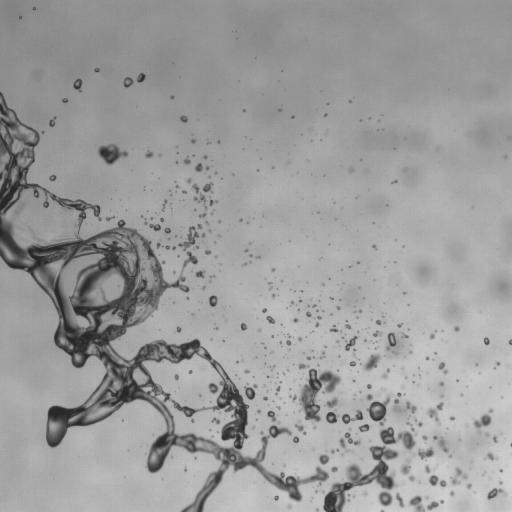droplet: (97, 144, 128, 165), (426, 401, 444, 426), (359, 352, 381, 371), (450, 467, 467, 485), (244, 382, 257, 400), (428, 474, 446, 487), (406, 401, 417, 413), (318, 454, 330, 465), (73, 78, 82, 92), (202, 182, 213, 193), (181, 144, 192, 155), (193, 144, 204, 155), (24, 172, 35, 183), (38, 176, 49, 187), (47, 181, 58, 192), (144, 229, 155, 240), (162, 271, 173, 282), (184, 275, 195, 286), (162, 287, 173, 298), (280, 290, 291, 301), (341, 308, 352, 319), (49, 313, 60, 324), (359, 313, 370, 324), (320, 318, 331, 329), (285, 322, 296, 333), (145, 332, 156, 343), (179, 332, 190, 343), (173, 334, 184, 345), (109, 337, 120, 348), (327, 345, 338, 356), (124, 348, 135, 359), (87, 354, 98, 365), (95, 362, 106, 373), (336, 367, 347, 378), (254, 374, 265, 385), (402, 383, 413, 394), (314, 391, 325, 402), (63, 398, 74, 409), (358, 399, 369, 410), (292, 400, 303, 411), (120, 401, 131, 412), (416, 409, 427, 420), (153, 412, 164, 423), (382, 416, 393, 427), (423, 417, 434, 428), (369, 420, 380, 431), (413, 438, 424, 449), (392, 440, 403, 451), (169, 444, 180, 455), (239, 446, 250, 457), (343, 454, 354, 465), (412, 457, 423, 468), (210, 459, 221, 470), (360, 463, 371, 474), (295, 468, 306, 479), (336, 472, 347, 483), (321, 481, 332, 492), (370, 481, 381, 492), (454, 482, 465, 493), (184, 493, 195, 504), (208, 382, 218, 394), (358, 423, 371, 432), (208, 295, 217, 307), (438, 362, 447, 374), (123, 77, 133, 87), (208, 196, 218, 206), (149, 223, 160, 231), (381, 368, 389, 379), (136, 73, 145, 82), (100, 138, 109, 147), (115, 156, 124, 165), (68, 192, 77, 201), (195, 202, 204, 211), (108, 219, 117, 228), (18, 268, 27, 277), (326, 301, 335, 310), (296, 311, 305, 320), (380, 325, 389, 334), (212, 330, 221, 339), (379, 336, 388, 345), (267, 339, 276, 348), (376, 346, 385, 355), (344, 351, 353, 360), (360, 353, 369, 362), (307, 359, 316, 368), (324, 391, 333, 400), (132, 397, 141, 406), (334, 407, 343, 416), (245, 408, 254, 417), (317, 408, 326, 417), (362, 414, 371, 423), (263, 417, 272, 426), (304, 418, 313, 427), (66, 425, 75, 434), (156, 426, 165, 435), (435, 426, 444, 435), (412, 434, 421, 443), (488, 443, 497, 452), (432, 445, 441, 454), (425, 456, 434, 465), (321, 462, 330, 471), (243, 464, 252, 473), (297, 483, 306, 492), (270, 485, 279, 494), (349, 485, 358, 494), (387, 487, 396, 496), (279, 489, 288, 498), (315, 497, 324, 506), (419, 498, 428, 507), (195, 270, 205, 278), (49, 116, 56, 127), (266, 315, 275, 323), (372, 330, 382, 337), (340, 505, 351, 511), (383, 505, 394, 511), (404, 505, 415, 511), (145, 150, 153, 158), (183, 155, 190, 164), (195, 163, 202, 172), (344, 320, 351, 329), (211, 417, 220, 424), (204, 247, 211, 255), (240, 322, 247, 330), (330, 448, 339, 454), (180, 115, 187, 122), (49, 174, 56, 181), (366, 394, 373, 401), (292, 436, 299, 443), (131, 73, 138, 80), (117, 145, 124, 152), (177, 154, 184, 161), (97, 156, 104, 163), (113, 158, 120, 165), (190, 159, 197, 166), (210, 175, 217, 182), (197, 181, 204, 188), (184, 183, 191, 190), (56, 191, 63, 198), (85, 208, 92, 215), (152, 217, 159, 224), (197, 217, 204, 224), (159, 222, 166, 229), (200, 225, 207, 232), (80, 233, 87, 240), (149, 242, 156, 249), (187, 244, 194, 251), (175, 246, 182, 253), (152, 247, 159, 254), (242, 254, 249, 261), (192, 264, 199, 271), (302, 297, 309, 304), (308, 306, 315, 313), (309, 316, 316, 323), (371, 323, 378, 330), (50, 324, 57, 331), (291, 331, 298, 338), (345, 332, 352, 339), (365, 332, 372, 339), (185, 335, 192, 342), (210, 352, 217, 359), (375, 359, 382, 366), (238, 362, 245, 369), (370, 366, 377, 373), (330, 368, 337, 375), (237, 369, 244, 376), (379, 378, 386, 385), (333, 383, 340, 390), (238, 388, 245, 395), (267, 391, 274, 398), (377, 395, 384, 402), (242, 396, 249, 403), (398, 396, 405, 403), (429, 401, 436, 408), (384, 403, 391, 410), (480, 407, 487, 414), (436, 409, 443, 416), (41, 410, 48, 417), (348, 410, 355, 417), (362, 411, 369, 418), (474, 413, 481, 420), (357, 418, 364, 425), (469, 424, 476, 431), (479, 424, 486, 431), (243, 425, 250, 432), (291, 428, 298, 435), (350, 433, 357, 440), (61, 435, 68, 442), (149, 435, 156, 442), (267, 436, 274, 443), (241, 438, 248, 445), (376, 439, 383, 446), (255, 441, 262, 448), (386, 442, 393, 449), (144, 443, 151, 450), (411, 444, 418, 451), (186, 451, 193, 458), (207, 452, 214, 459), (163, 456, 170, 463), (384, 458, 391, 465), (259, 459, 266, 466), (460, 466, 467, 473), (309, 468, 316, 475), (408, 468, 415, 475), (449, 469, 456, 476), (392, 476, 399, 483), (444, 477, 451, 484), (459, 479, 466, 486), (217, 480, 224, 487), (445, 481, 452, 488), (195, 483, 202, 490), (361, 483, 368, 490), (451, 484, 458, 491), (408, 491, 415, 498), (402, 496, 409, 503), (390, 497, 397, 504), (289, 498, 296, 505), (198, 212, 206, 218), (163, 227, 171, 233), (483, 337, 489, 345), (421, 435, 427, 443), (330, 466, 338, 472), (349, 361, 356, 367), (268, 365, 275, 371), (267, 282, 272, 290), (271, 293, 279, 298), (292, 317, 298, 323), (286, 503, 292, 509), (186, 177, 191, 184), (306, 310, 311, 317), (176, 326, 181, 333), (348, 168, 354, 173), (372, 244, 377, 250), (397, 322, 403, 327), (453, 326, 459, 331), (466, 483, 471, 489), (449, 490, 454, 496), (273, 495, 278, 501), (201, 507, 208, 511), (430, 507, 437, 511), (297, 336, 302, 341), (439, 381, 444, 386), (366, 384, 371, 389), (381, 387, 386, 392), (255, 409, 260, 414), (92, 63, 97, 68), (142, 69, 147, 74), (142, 78, 147, 83), (2, 93, 7, 98), (6, 102, 11, 107), (16, 113, 21, 118), (186, 115, 191, 120), (53, 118, 58, 123), (178, 120, 183, 125), (31, 124, 36, 129), (36, 128, 41, 133), (38, 133, 43, 138), (33, 145, 38, 150), (148, 147, 153, 152), (141, 149, 146, 154), (152, 152, 157, 157), (33, 154, 38, 159), (181, 154, 186, 159), (188, 155, 193, 160), (147, 156, 152, 161), (178, 158, 183, 163), (201, 162, 206, 167), (27, 166, 32, 171), (200, 167, 205, 172), (206, 169, 211, 174), (204, 178, 209, 183), (190, 179, 195, 184), (170, 185, 175, 190), (210, 185, 215, 190), (176, 187, 181, 192), (198, 187, 203, 192), (203, 191, 208, 196), (195, 193, 200, 198), (85, 198, 90, 203), (90, 200, 95, 205), (204, 200, 209, 205), (211, 202, 216, 207), (207, 205, 212, 210), (199, 208, 204, 213), (204, 214, 209, 219), (242, 216, 247, 221), (146, 218, 151, 223), (200, 221, 205, 226), (159, 226, 164, 231), (196, 228, 201, 233), (204, 231, 209, 236), (166, 232, 171, 237), (243, 243, 248, 248), (252, 251, 257, 256), (207, 253, 212, 258), (183, 254, 188, 259), (157, 256, 162, 261), (216, 256, 221, 261), (250, 256, 255, 261), (178, 259, 183, 264), (187, 261, 192, 266), (351, 261, 356, 266), (3, 263, 8, 268), (160, 263, 165, 268), (342, 264, 347, 269), (181, 271, 186, 276), (196, 276, 201, 281), (271, 282, 276, 287), (174, 286, 179, 291), (38, 288, 43, 293), (271, 288, 276, 293), (266, 290, 271, 295), (183, 291, 188, 296), (204, 298, 209, 303), (293, 298, 298, 303), (311, 298, 316, 303), (216, 299, 221, 304), (335, 300, 340, 305), (215, 302, 220, 307), (297, 302, 302, 307), (152, 309, 157, 314), (317, 310, 322, 315), (263, 311, 268, 316), (376, 314, 381, 319), (146, 315, 151, 320), (317, 318, 322, 323), (274, 319, 279, 324), (347, 320, 352, 325), (290, 321, 295, 326), (294, 321, 299, 326), (455, 321, 460, 326), (245, 322, 250, 327), (375, 324, 380, 329), (458, 325, 463, 330), (125, 326, 130, 331), (313, 326, 318, 331), (403, 329, 408, 334), (49, 331, 54, 336), (425, 331, 430, 336), (434, 332, 439, 337), (371, 336, 376, 341), (281, 337, 286, 342), (108, 339, 113, 344), (165, 339, 170, 344), (281, 340, 286, 345), (384, 340, 389, 345), (50, 341, 55, 346), (139, 341, 144, 346), (199, 341, 204, 346), (390, 345, 395, 350), (406, 345, 411, 350), (264, 348, 269, 353), (370, 349, 375, 354), (385, 350, 390, 355), (307, 351, 312, 356), (406, 353, 411, 358), (66, 354, 71, 359), (350, 356, 355, 361), (303, 359, 308, 364), (354, 359, 359, 364), (434, 361, 439, 366), (312, 364, 317, 369), (443, 364, 448, 369), (74, 366, 79, 371), (474, 366, 479, 371), (272, 367, 277, 372), (438, 368, 443, 373), (387, 371, 392, 376), (99, 372, 104, 377), (227, 372, 232, 377), (304, 373, 309, 378), (278, 374, 283, 379), (408, 375, 413, 380), (413, 375, 418, 380), (247, 382, 252, 387), (370, 382, 375, 387), (91, 384, 96, 389), (253, 387, 258, 392), (366, 388, 371, 393), (277, 390, 282, 395), (392, 393, 397, 398), (253, 394, 258, 399), (371, 396, 376, 401), (266, 398, 271, 403), (294, 398, 299, 403), (336, 399, 341, 404), (367, 399, 372, 404), (434, 399, 439, 404), (276, 400, 281, 405), (409, 400, 414, 405), (280, 404, 285, 409), (441, 404, 446, 409), (151, 406, 156, 411), (272, 407, 277, 412), (406, 408, 411, 413), (300, 411, 305, 416), (110, 412, 115, 417), (488, 412, 493, 417), (383, 413, 388, 418), (106, 415, 111, 420), (336, 416, 341, 421), (429, 417, 434, 422), (408, 418, 413, 423), (99, 419, 104, 424), (468, 419, 473, 424), (489, 419, 494, 424), (94, 421, 99, 426), (331, 421, 336, 426), (88, 423, 93, 428), (276, 423, 281, 428), (413, 424, 418, 429), (302, 426, 307, 431), (405, 426, 410, 431), (263, 430, 268, 435), (362, 430, 367, 435), (339, 432, 344, 437), (257, 433, 262, 438), (276, 433, 281, 438), (288, 434, 293, 439), (411, 435, 416, 440), (427, 435, 432, 440), (496, 435, 501, 440), (41, 436, 46, 441), (42, 439, 47, 444), (335, 442, 340, 447), (443, 442, 448, 447), (45, 444, 50, 449), (338, 446, 343, 451), (264, 448, 269, 453), (447, 448, 452, 453), (320, 449, 325, 454), (194, 450, 199, 455), (326, 451, 331, 456), (367, 451, 372, 456), (442, 451, 447, 456), (481, 451, 486, 456), (492, 451, 497, 456), (415, 455, 420, 460), (485, 457, 490, 462), (373, 459, 378, 464), (142, 460, 147, 465), (228, 464, 233, 469), (428, 464, 433, 469), (420, 466, 425, 471), (143, 467, 148, 472), (275, 471, 280, 476), (291, 472, 296, 477), (426, 472, 431, 477), (437, 475, 442, 480), (465, 478, 470, 483), (313, 479, 318, 484), (412, 479, 417, 484), (426, 482, 431, 487), (435, 482, 440, 487), (470, 484, 475, 489), (495, 484, 500, 489), (483, 490, 488, 495), (416, 491, 421, 496), (496, 491, 501, 496), (399, 492, 404, 497), (490, 496, 495, 501), (434, 497, 439, 502), (181, 503, 186, 508), (380, 504, 385, 509), (62, 98, 68, 102), (190, 139, 196, 143), (290, 300, 294, 306), (174, 374, 178, 380), (449, 416, 455, 420), (0, 178, 3, 185), (94, 68, 99, 72), (205, 220, 209, 225), (242, 262, 247, 266), (270, 268, 275, 272), (262, 308, 266, 313), (315, 322, 319, 327), (286, 367, 290, 372), (244, 369, 249, 373), (482, 471, 486, 476), (363, 490, 367, 495), (391, 180, 397, 183), (181, 190, 187, 193), (508, 339, 511, 345), (170, 95, 174, 99), (323, 113, 327, 117), (203, 155, 207, 159), (205, 166, 209, 170), (244, 248, 248, 252), (298, 298, 302, 302), (336, 306, 340, 310), (214, 326, 218, 330), (374, 346, 378, 350), (425, 356, 429, 360), (188, 370, 192, 374), (262, 384, 266, 388), (439, 394, 443, 398), (263, 396, 267, 400), (276, 405, 280, 409), (251, 425, 255, 429), (485, 432, 489, 436), (315, 507, 319, 511), (160, 217, 163, 222), (363, 339, 368, 342), (310, 496, 313, 501), (287, 508, 292, 511), (320, 508, 325, 511), (424, 508, 429, 511), (278, 108, 282, 111), (41, 130, 44, 134), (207, 140, 210, 144), (503, 155, 507, 158), (239, 218, 242, 222), (208, 229, 211, 233), (217, 234, 221, 237), (214, 255, 218, 258), (249, 254, 253, 257), (172, 270, 175, 274), (116, 284, 120, 287), (202, 286, 205, 290), (329, 296, 333, 299), (323, 345, 327, 348), (310, 349, 314, 352), (270, 350, 273, 354), (240, 359, 244, 362), (282, 371, 285, 375), (448, 454, 452, 457), (440, 499, 443, 503), (255, 256, 260, 258), (380, 509, 385, 511), (0, 112, 2, 117), (0, 256, 2, 261), (326, 102, 329, 105), (291, 115, 294, 118), (217, 140, 220, 143), (158, 154, 161, 157), (214, 171, 217, 174), (150, 217, 153, 220), (218, 220, 221, 223), (167, 237, 170, 240), (321, 283, 324, 286), (186, 296, 189, 299), (355, 316, 358, 319), (258, 328, 261, 331), (222, 339, 225, 342), (261, 342, 264, 345), (287, 348, 290, 351), (409, 350, 412, 353), (475, 363, 478, 366), (404, 376, 407, 379), (352, 379, 355, 382), (358, 390, 361, 393), (460, 393, 463, 396), (198, 394, 201, 397), (500, 396, 503, 399), (458, 438, 461, 441), (170, 455, 173, 458), (360, 457, 363, 460), (499, 469, 502, 472), (499, 481, 502, 484), (35, 5, 38, 8), (29, 6, 32, 9), (31, 9, 34, 12), (18, 12, 21, 15), (15, 15, 18, 18), (21, 15, 24, 18), (18, 18, 21, 21), (94, 71, 97, 74), (123, 74, 126, 77), (79, 76, 82, 79), (73, 77, 76, 80), (120, 82, 123, 85), (129, 84, 132, 87), (79, 86, 82, 89), (123, 86, 126, 89), (74, 88, 77, 91), (171, 92, 174, 95), (60, 96, 63, 99), (173, 96, 176, 99), (348, 96, 351, 99), (67, 98, 70, 101), (169, 98, 172, 101), (351, 98, 354, 101), (325, 99, 328, 102), (345, 100, 348, 103), (65, 101, 68, 104), (348, 102, 351, 105), (242, 105, 245, 108), (277, 105, 280, 108), (13, 108, 16, 111), (239, 108, 242, 111), (245, 108, 248, 111), (242, 111, 245, 114), (278, 111, 281, 114), (321, 111, 324, 114), (290, 112, 293, 115), (178, 113, 181, 116), (325, 115, 328, 118), (49, 116, 52, 119), (290, 118, 293, 121), (46, 119, 49, 122), (186, 119, 189, 122), (54, 122, 57, 125), (26, 123, 29, 126), (52, 125, 55, 128), (192, 136, 195, 139), (208, 138, 211, 141), (214, 138, 217, 141), (204, 139, 207, 142), (219, 139, 222, 142), (194, 140, 197, 143), (190, 142, 193, 145), (207, 143, 210, 146), (175, 148, 178, 151), (127, 152, 130, 155), (205, 152, 208, 155), (200, 153, 203, 156), (206, 156, 209, 159), (172, 161, 175, 164), (255, 165, 258, 168), (268, 165, 271, 168), (258, 168, 261, 171), (254, 170, 257, 173), (48, 172, 51, 175), (53, 172, 56, 175), (185, 176, 188, 179), (54, 178, 57, 181), (391, 178, 394, 181), (176, 181, 179, 184), (37, 182, 40, 185), (173, 182, 176, 185), (392, 182, 395, 185), (45, 186, 48, 189), (144, 186, 147, 189), (140, 187, 143, 190), (167, 191, 170, 194), (181, 192, 184, 195), (210, 196, 213, 199), (161, 200, 164, 203), (96, 202, 99, 205), (164, 203, 167, 206), (159, 204, 162, 207), (170, 204, 173, 207), (99, 207, 102, 210), (190, 207, 193, 210), (213, 210, 216, 213), (98, 213, 101, 216), (107, 214, 110, 217), (137, 214, 140, 217), (143, 214, 146, 217), (160, 214, 163, 217), (94, 216, 97, 219), (218, 216, 221, 219), (163, 217, 166, 220), (215, 217, 218, 220), (236, 217, 239, 220), (82, 218, 85, 221), (122, 218, 125, 221), (141, 218, 144, 221), (220, 220, 223, 223), (189, 223, 192, 226), (372, 223, 375, 226), (210, 228, 213, 231), (249, 238, 252, 241), (159, 241, 162, 244), (372, 241, 375, 244), (375, 244, 378, 247), (158, 245, 161, 248), (162, 246, 165, 249), (207, 247, 210, 250), (371, 247, 374, 250), (401, 247, 404, 250), (246, 251, 249, 254), (191, 252, 194, 255), (248, 256, 251, 259), (256, 257, 259, 260), (393, 257, 396, 260), (355, 258, 358, 261), (241, 260, 244, 263), (359, 260, 362, 263), (246, 262, 249, 265), (347, 262, 350, 265), (356, 263, 359, 266), (271, 264, 274, 267), (242, 265, 245, 268), (268, 267, 271, 270), (348, 267, 351, 270), (274, 268, 277, 271), (271, 271, 274, 274), (214, 272, 217, 275), (325, 275, 328, 278), (211, 276, 214, 279), (330, 276, 333, 279), (267, 278, 270, 281), (327, 279, 330, 282), (266, 284, 269, 287), (320, 285, 323, 288), (300, 286, 303, 289), (188, 287, 191, 290), (402, 288, 405, 291), (290, 289, 293, 292), (295, 289, 298, 292), (302, 290, 305, 293), (298, 291, 301, 294), (208, 293, 211, 296), (400, 293, 403, 296), (404, 293, 407, 296), (330, 294, 333, 297), (274, 295, 277, 298), (300, 296, 303, 299), (333, 296, 336, 299), (319, 297, 322, 300), (328, 298, 331, 301), (406, 300, 409, 303), (287, 301, 290, 304), (291, 303, 294, 306), (404, 304, 407, 307), (295, 305, 298, 308), (339, 305, 342, 308), (287, 306, 290, 309), (313, 306, 316, 309), (333, 306, 336, 309), (259, 307, 262, 310), (352, 307, 355, 310), (355, 307, 358, 310), (304, 308, 307, 311), (361, 308, 364, 311), (337, 309, 340, 312), (355, 312, 358, 315), (382, 312, 385, 315), (270, 314, 273, 317), (303, 314, 306, 317), (291, 315, 294, 318), (307, 316, 310, 319), (345, 316, 348, 319), (315, 318, 318, 321), (265, 319, 268, 322), (372, 319, 375, 322), (243, 320, 246, 323), (397, 320, 400, 323), (332, 321, 335, 324), (269, 322, 272, 325), (312, 322, 315, 325), (282, 323, 285, 326), (178, 324, 181, 327), (212, 324, 215, 327), (400, 324, 403, 327), (237, 325, 240, 328), (279, 325, 282, 328), (317, 325, 320, 328), (173, 327, 176, 330), (345, 327, 348, 330), (213, 328, 216, 331), (244, 328, 247, 331), (308, 328, 311, 331), (326, 328, 329, 331), (358, 328, 361, 331), (372, 329, 375, 332), (284, 330, 287, 333), (331, 330, 334, 333), (456, 330, 459, 333), (175, 331, 178, 334), (311, 331, 314, 334), (288, 332, 291, 335), (305, 332, 308, 335), (354, 332, 357, 335), (268, 333, 271, 336), (273, 334, 276, 337), (301, 335, 304, 338), (394, 335, 397, 338), (487, 336, 490, 339), (219, 337, 222, 340), (223, 337, 226, 340), (270, 337, 273, 340), (404, 337, 407, 340), (506, 337, 509, 340), (354, 338, 357, 341), (431, 338, 434, 341), (480, 338, 483, 341), (260, 339, 263, 342), (300, 339, 303, 342), (488, 340, 491, 343), (505, 340, 508, 343), (221, 341, 224, 344), (481, 341, 484, 344), (323, 342, 326, 345), (334, 342, 337, 345), (343, 342, 346, 345), (263, 343, 266, 346), (277, 343, 280, 346), (373, 343, 376, 346), (507, 343, 510, 346), (260, 344, 263, 347), (288, 344, 291, 347), (349, 345, 352, 348), (311, 346, 314, 349), (322, 347, 325, 350), (433, 348, 436, 351), (343, 349, 346, 352), (354, 350, 357, 353), (324, 352, 327, 355), (266, 353, 269, 356), (391, 353, 394, 356), (422, 356, 425, 359), (428, 356, 431, 359), (234, 357, 237, 360), (310, 357, 313, 360), (322, 357, 325, 360), (338, 357, 341, 360), (237, 358, 240, 361), (496, 358, 499, 361), (425, 359, 428, 362), (236, 362, 239, 365), (265, 362, 268, 365), (270, 362, 273, 365), (499, 362, 502, 365), (477, 363, 480, 366), (493, 363, 496, 366), (295, 364, 298, 367), (349, 365, 352, 368), (419, 366, 422, 369), (247, 367, 250, 370), (389, 368, 392, 371), (491, 368, 494, 371), (224, 369, 227, 372), (284, 370, 287, 373), (278, 371, 281, 374), (419, 371, 422, 374), (245, 372, 248, 375), (267, 372, 270, 375), (445, 372, 448, 375), (420, 374, 423, 377), (263, 375, 266, 378), (401, 375, 404, 378), (352, 376, 355, 379), (267, 377, 270, 380), (276, 378, 279, 381), (349, 379, 352, 382), (458, 379, 461, 382), (414, 380, 417, 383), (453, 380, 456, 383), (254, 381, 257, 384), (352, 381, 355, 384), (368, 381, 371, 384), (409, 381, 412, 384), (443, 381, 446, 384), (274, 384, 277, 387), (439, 385, 442, 388), (279, 387, 282, 390), (355, 391, 358, 394), (400, 391, 403, 394), (462, 391, 465, 394), (263, 393, 266, 396), (291, 393, 294, 396), (86, 394, 89, 397), (353, 395, 356, 398), (262, 399, 265, 402), (491, 406, 494, 409), (267, 407, 270, 410), (264, 412, 267, 415), (450, 413, 453, 416), (454, 415, 457, 418), (123, 418, 126, 421), (404, 418, 407, 421), (450, 419, 453, 422), (421, 423, 424, 426), (356, 428, 359, 431), (305, 431, 308, 434), (424, 432, 427, 435), (433, 432, 436, 435), (298, 438, 301, 441), (490, 438, 493, 441), (291, 441, 294, 444), (350, 442, 353, 445), (507, 442, 510, 445), (334, 450, 337, 453), (145, 453, 148, 456), (492, 458, 495, 461), (408, 462, 411, 465), (499, 465, 502, 468), (181, 466, 184, 469), (186, 467, 189, 470), (496, 468, 499, 471), (502, 469, 505, 472), (480, 470, 483, 473), (183, 471, 186, 474), (498, 471, 501, 474), (484, 472, 487, 475), (499, 477, 502, 480), (489, 487, 492, 490), (453, 491, 456, 494), (271, 498, 274, 501), (443, 500, 446, 503), (248, 242, 252, 244), (299, 290, 303, 292), (402, 292, 406, 294), (33, 7, 35, 10), (19, 16, 21, 19), (348, 100, 351, 102), (242, 109, 245, 111), (368, 117, 371, 119), (256, 169, 259, 171), (170, 193, 172, 196), (194, 208, 196, 211), (249, 260, 251, 263), (356, 261, 359, 263), (393, 261, 396, 263), (280, 280, 283, 282), (358, 286, 360, 289), (297, 308, 299, 311), (316, 309, 318, 312), (191, 313, 194, 315), (407, 328, 409, 331), (357, 330, 359, 333), (440, 330, 443, 332), (271, 335, 273, 338), (341, 336, 344, 338), (210, 338, 212, 341), (434, 352, 437, 354), (236, 360, 238, 363), (292, 363, 295, 365), (317, 363, 319, 366), (478, 372, 481, 374), (456, 379, 458, 382), (266, 389, 268, 392), (208, 429, 211, 431), (368, 439, 371, 441), (194, 456, 196, 459), (283, 464, 285, 467), (418, 481, 421, 483), (473, 491, 476, 493), (176, 152, 178, 154), (192, 154, 194, 156), (176, 161, 178, 163), (272, 166, 274, 168), (232, 173, 234, 175), (208, 176, 210, 178), (175, 191, 177, 193), (386, 204, 388, 206), (317, 211, 319, 213), (247, 221, 249, 223), (175, 235, 177, 237), (328, 243, 330, 245), (402, 245, 404, 247), (177, 255, 179, 257), (219, 263, 221, 265), (310, 298, 312, 300), (407, 304, 409, 306), (330, 313, 332, 315), (280, 323, 282, 325), (264, 346, 266, 348), (302, 352, 304, 354), (338, 355, 340, 357), (432, 358, 434, 360), (337, 369, 339, 371), (412, 381, 414, 383), (274, 382, 276, 384), (489, 386, 491, 388), (289, 388, 291, 390), (209, 401, 211, 403), (283, 402, 285, 404), (255, 418, 257, 420), (446, 427, 448, 429), (360, 119, 361, 121), (323, 175, 325, 176), (333, 202, 335, 203), (372, 222, 374, 223), (328, 278, 330, 279), (318, 300, 320, 301), (418, 367, 420, 368), (277, 372, 278, 374), (235, 374, 237, 375), (252, 376, 254, 377), (277, 376, 278, 378), (353, 394, 355, 395), (394, 148, 395, 149), (214, 242, 215, 243), (339, 299, 340, 300), (322, 310, 323, 311), (265, 355, 266, 356), (264, 363, 265, 364), (272, 400, 273, 401), (122, 419, 123, 420)
ligament: (408, 495, 438, 511), (191, 183, 207, 210), (400, 458, 415, 481), (392, 392, 405, 412), (433, 435, 448, 452), (344, 335, 359, 351), (486, 488, 507, 499), (156, 239, 175, 250), (386, 332, 396, 350), (294, 420, 306, 435), (395, 492, 404, 507), (483, 452, 498, 460), (274, 381, 282, 395), (492, 432, 502, 443), (352, 348, 361, 360), (429, 329, 437, 339), (414, 417, 422, 427), (140, 214, 147, 225), (161, 199, 167, 211), (318, 350, 325, 359), (493, 361, 500, 369), (375, 320, 386, 325), (105, 215, 114, 221), (209, 274, 215, 282), (401, 332, 409, 338), (306, 356, 316, 360), (353, 309, 362, 313), (313, 315, 322, 319), (174, 181, 179, 188), (391, 351, 399, 355), (307, 304, 317, 307), (278, 340, 282, 347), (210, 209, 214, 215), (370, 340, 377, 343), (336, 340, 339, 346), (266, 375, 272, 378), (381, 312, 384, 317), (418, 374, 421, 379), (319, 256, 322, 260), (471, 458, 473, 463), (184, 466, 186, 471), (310, 330, 313, 333), (278, 397, 282, 399), (356, 196, 359, 198), (510, 442, 511, 447), (201, 366, 205, 367), (348, 266, 351, 267)
